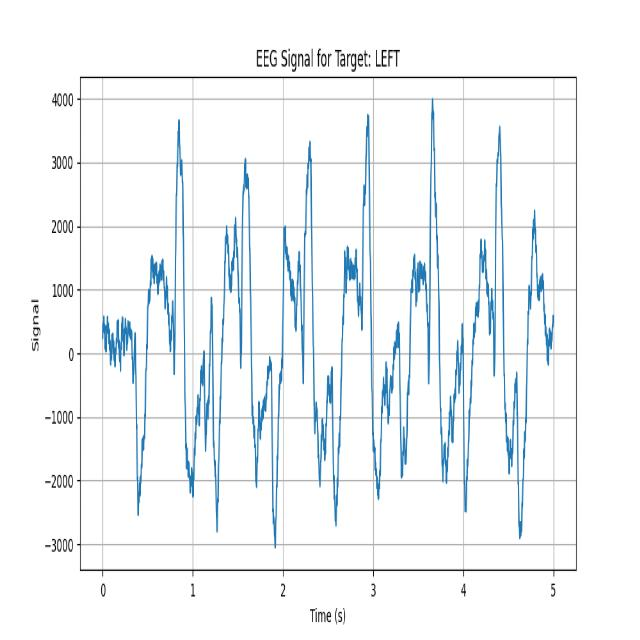LEFT: (459, 91, 533, 542), (138, 95, 208, 539), (208, 94, 276, 544), (396, 91, 459, 548), (276, 91, 337, 554), (337, 91, 397, 542)
